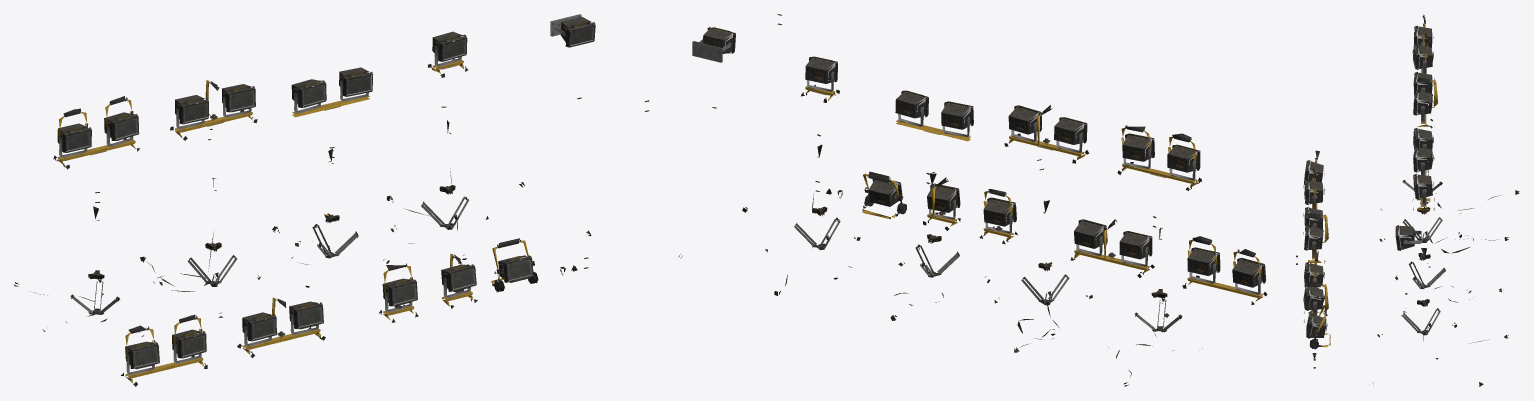
The model's file is flood_lights.glb.
The picture shows the model from 3 angles, left to right: view 1: azimuth 30°, elevation 25°; view 2: azimuth 150°, elevation 25°; view 3: azimuth 270°, elevation 25°; orthographic projection. The views are drawn at different scales.
Parts seen in each view (by area): view 1: CC0_flood_lights; view 2: CC0_flood_lights; view 3: CC0_flood_lights.
Part boxes in pixels (x1,y1,x2,y2): CC0_flood_lights: (14,14,649,386); CC0_flood_lights: (678,14,1267,386); CC0_flood_lights: (1296,14,1519,386).
Size of the model in its own units: 2.05 by 0.8157 by 0.9224.
2 materials, 2 textured.
